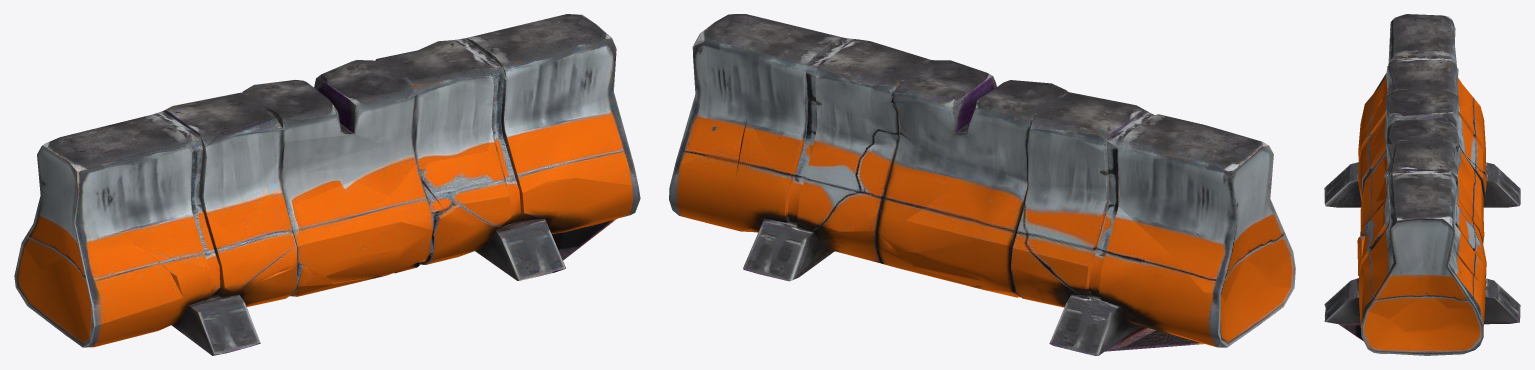
The model's file is BS_Map_ConcreteBarrier_final.glb.
3 renders of one model, left to right at view 1: azimuth 30°, elevation 25°; view 2: azimuth 150°, elevation 25°; view 3: azimuth 270°, elevation 25°, orthographic. The views are drawn at different scales.
Size of the model in its own units: 1.9 by 0.6088 by 0.7515.
Materials: 1 (1 with a texture image).
